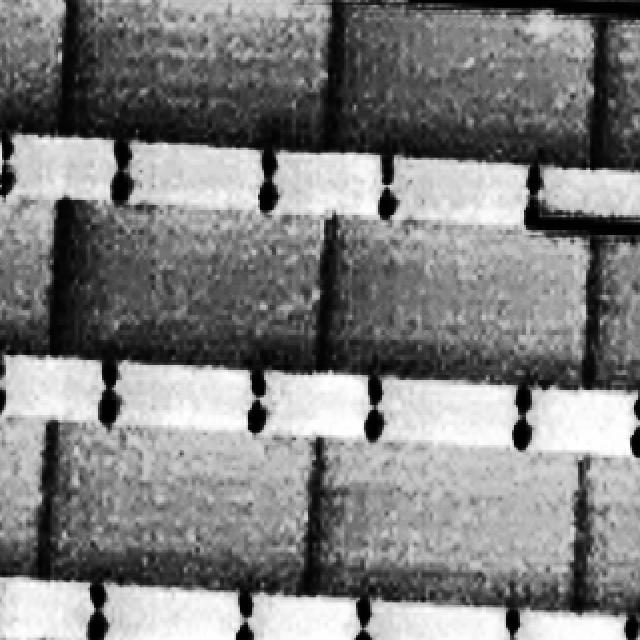Hotspots: (506, 7, 582, 60)
PV-modules: (50, 200, 334, 376), (306, 440, 590, 608), (318, 223, 595, 390), (40, 432, 323, 591), (331, 0, 602, 166), (66, 0, 337, 151), (576, 452, 640, 616), (0, 205, 62, 350), (0, 0, 70, 120), (586, 237, 640, 386), (594, 8, 640, 179), (0, 430, 46, 581)
